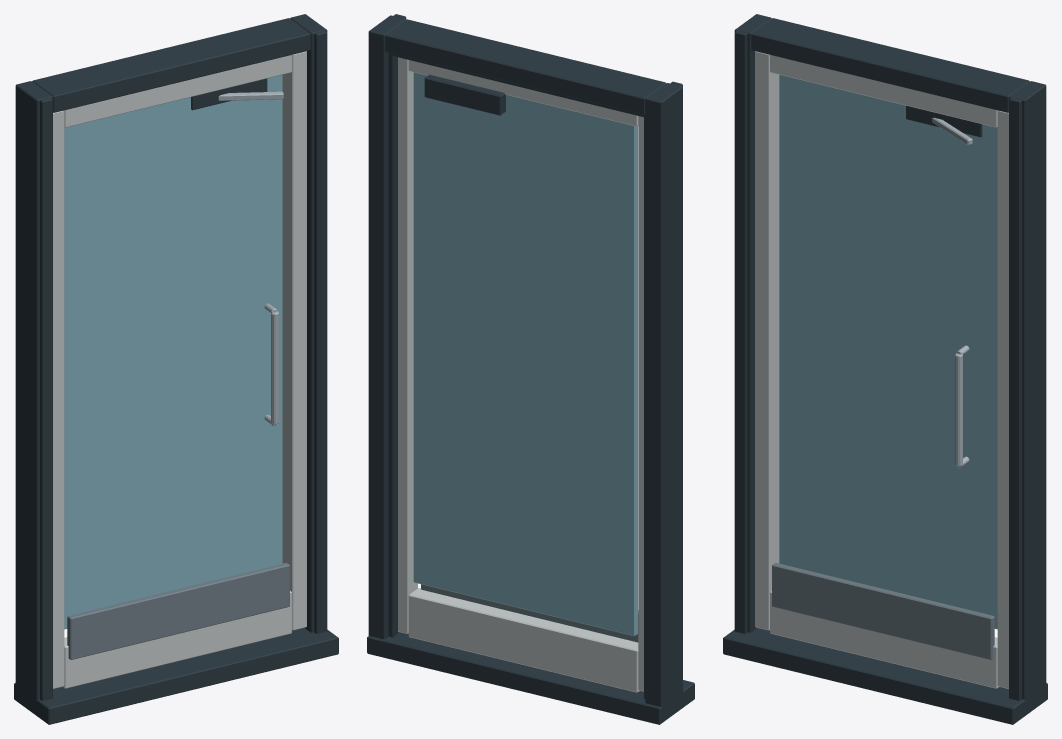
The model's file is b12_commercial_glass_entry.glb.
The picture shows the model from 3 angles, left to right: view 1: azimuth 30°, elevation 25°; view 2: azimuth 150°, elevation 25°; view 3: azimuth 330°, elevation 25°; orthographic projection.
Visible parts, largest first — view 1: b12_commercial_glass_entry; view 2: b12_commercial_glass_entry; view 3: b12_commercial_glass_entry.
Part boxes in pixels (bbox=[...]): b12_commercial_glass_entry: bbox=[14, 14, 338, 724]; b12_commercial_glass_entry: bbox=[367, 14, 694, 724]; b12_commercial_glass_entry: bbox=[723, 14, 1047, 724].
Size of the model in its own units: 1.15 by 2.33 by 0.24.
